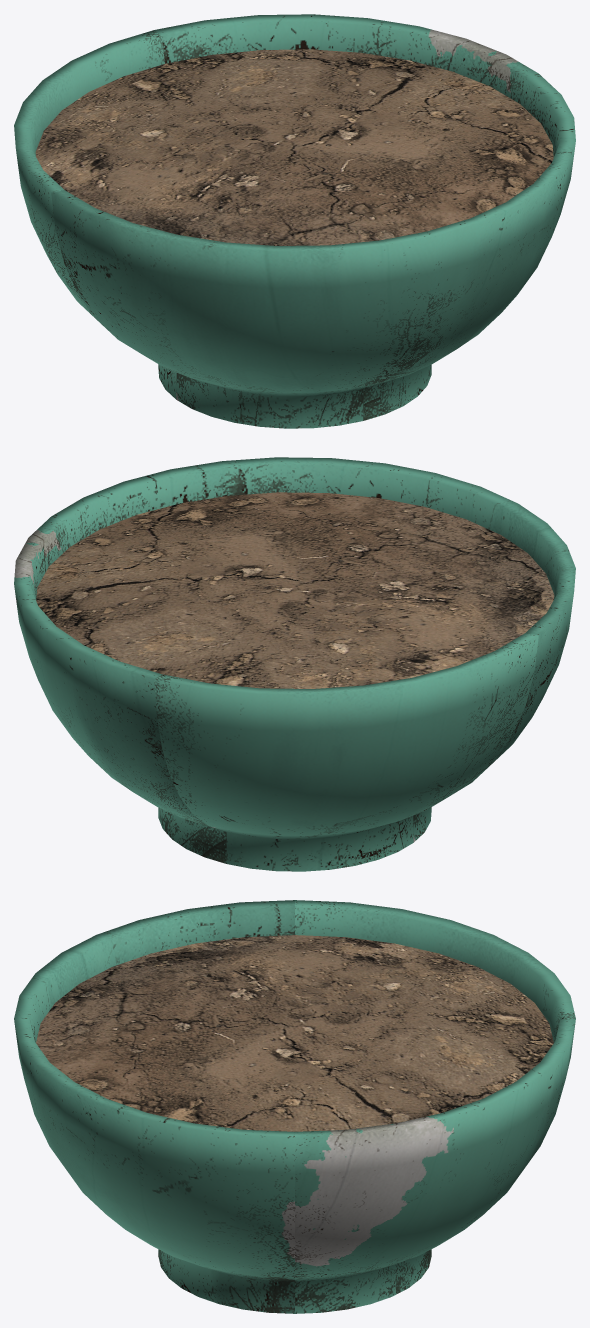
Rendered from hachi_A.fbx.
3 views of the same model, one above another, from view 1: azimuth 30°, elevation 25°; view 2: azimuth 150°, elevation 25°; view 3: azimuth 270°, elevation 25° (orthographic).
Parts seen in each view (by area): view 1: hachi_A; view 2: hachi_A; view 3: hachi_A.
Boxes of the visible parts, bbox=[...] form: hachi_A: bbox=[14, 14, 575, 428]; hachi_A: bbox=[14, 457, 575, 871]; hachi_A: bbox=[14, 900, 575, 1313].
Bounding box in the file's own units: 226 × 105 × 226.
